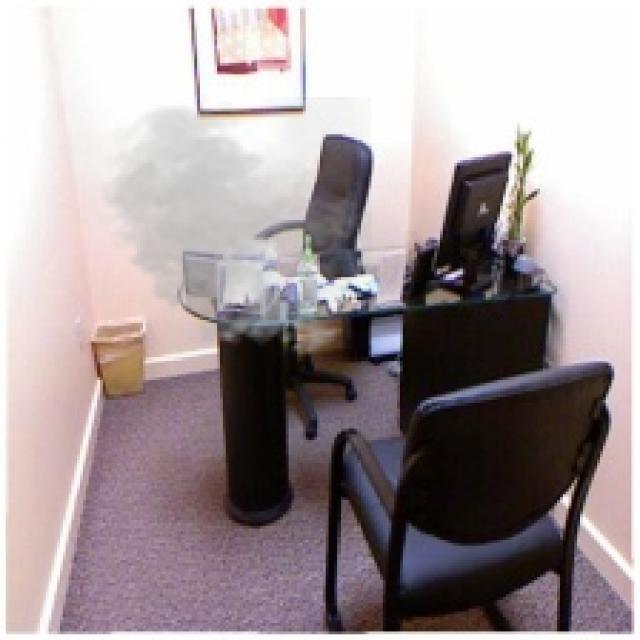smoke: (91, 97, 372, 360)
